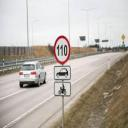speed_limit_110: (54, 36, 70, 64)
